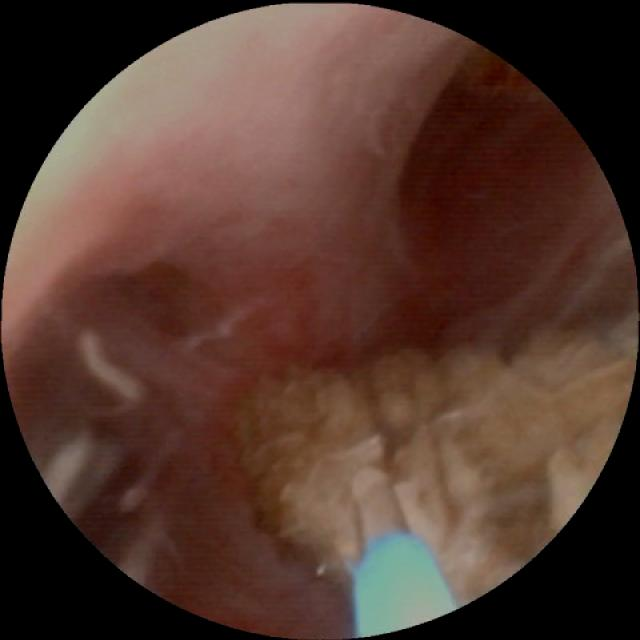fiber: (356, 538, 450, 631)
stone: (229, 323, 634, 597)
